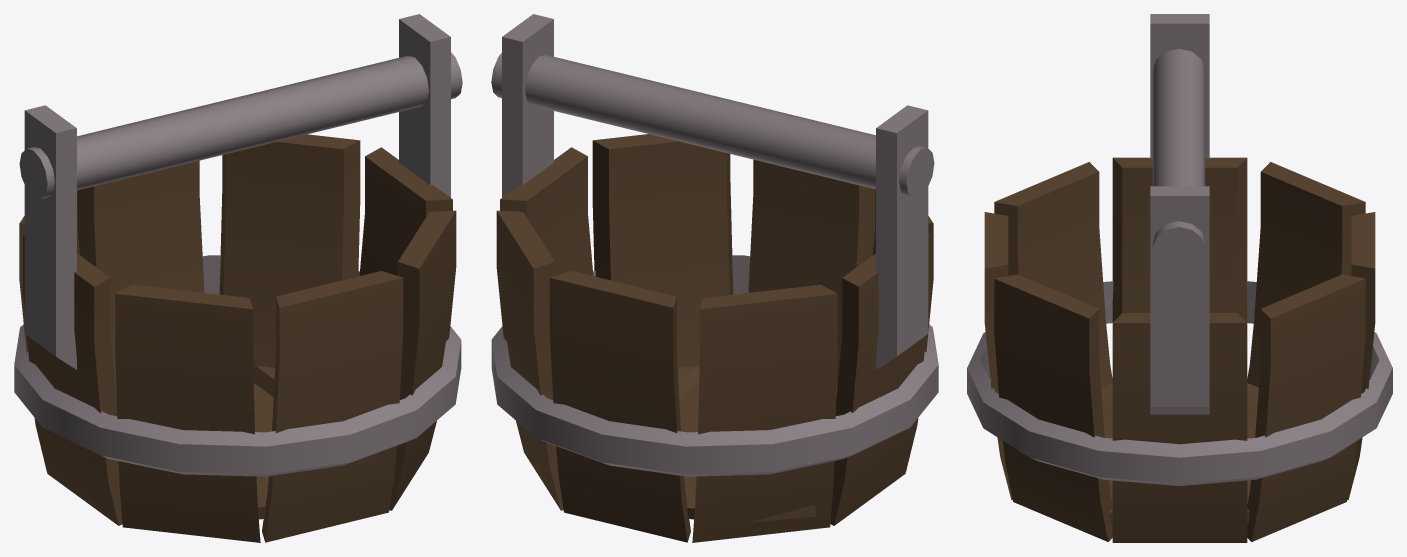
The model's file is Bucket.glb.
3 renders of one model, left to right at view 1: azimuth 30°, elevation 25°; view 2: azimuth 150°, elevation 25°; view 3: azimuth 270°, elevation 25°, orthographic. The views are drawn at different scales.
Parts seen in each view (by area): view 1: Prop_Bucket; view 2: Prop_Bucket; view 3: Prop_Bucket.
Part boxes in pixels (x1,y1,x2,y2): Prop_Bucket: (14, 14, 462, 542); Prop_Bucket: (491, 14, 938, 542); Prop_Bucket: (967, 14, 1392, 542).
Bounding box in the file's own units: 0.7596 × 0.6795 × 0.7147.
Materials: 1 (1 with a texture image).
